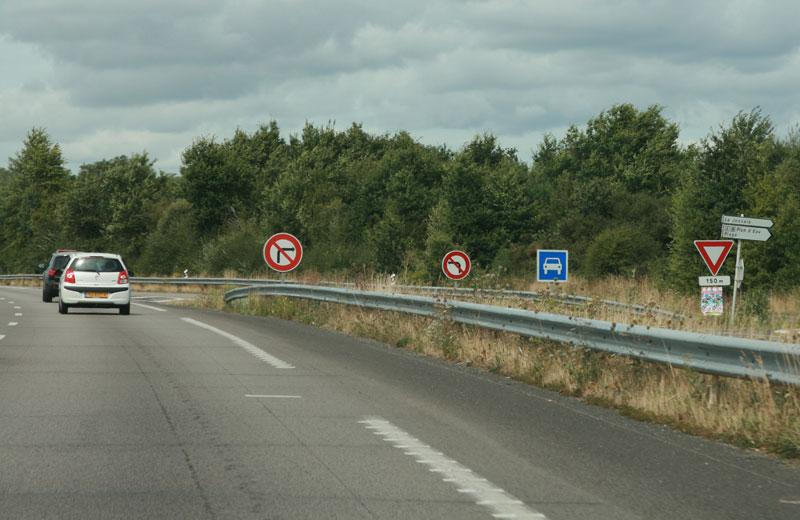car: (51, 252, 136, 315)
no_left_turn: (440, 249, 470, 279)
no_right_turn: (262, 232, 302, 272)
